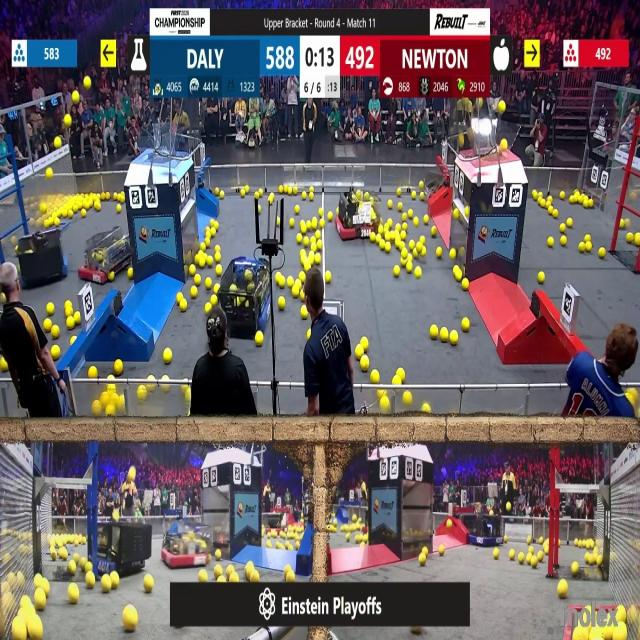ball_airborne: (129, 466, 137, 481), (458, 134, 466, 148), (498, 102, 506, 114), (499, 140, 507, 152), (112, 511, 120, 522), (55, 137, 62, 149), (65, 114, 72, 126), (72, 92, 79, 104), (83, 76, 90, 88), (45, 169, 52, 180), (505, 502, 511, 512)
ball_ground: (125, 608, 138, 633), (29, 621, 40, 640), (35, 592, 46, 610), (558, 580, 568, 599), (69, 586, 79, 604), (102, 578, 112, 594), (144, 577, 153, 594), (87, 572, 96, 588), (380, 396, 390, 410), (249, 568, 259, 582), (114, 359, 123, 374), (93, 403, 102, 418), (359, 356, 368, 370), (50, 346, 59, 360), (402, 392, 411, 406), (255, 333, 263, 348), (442, 327, 450, 342), (370, 368, 378, 382), (66, 302, 74, 316), (360, 338, 368, 352), (111, 572, 119, 586), (90, 365, 99, 377), (200, 569, 209, 581), (106, 406, 115, 418), (59, 548, 68, 560), (165, 349, 172, 364), (429, 325, 437, 338), (461, 318, 469, 331), (278, 296, 286, 309), (451, 332, 458, 346), (0, 357, 7, 371), (571, 562, 578, 576), (51, 324, 58, 338), (286, 570, 294, 582), (454, 270, 462, 282), (278, 276, 286, 288), (69, 561, 76, 574), (231, 572, 240, 582), (46, 304, 53, 316), (67, 318, 74, 330), (302, 307, 309, 319), (627, 234, 635, 244), (393, 376, 401, 386), (214, 565, 222, 575), (422, 405, 430, 415), (530, 558, 538, 568), (406, 264, 414, 274), (204, 304, 212, 314), (420, 247, 428, 257), (313, 242, 321, 252), (584, 198, 592, 208), (308, 254, 316, 264), (356, 346, 362, 359), (74, 313, 80, 326), (180, 301, 187, 312), (393, 267, 400, 278), (415, 268, 422, 279), (578, 242, 585, 253), (419, 555, 426, 566), (286, 276, 293, 287), (188, 266, 195, 277), (200, 256, 207, 267), (315, 252, 321, 264), (44, 319, 50, 331), (325, 272, 331, 284), (396, 367, 404, 376), (212, 284, 220, 293), (572, 631, 580, 640), (82, 201, 90, 210), (435, 248, 442, 258), (205, 278, 212, 288), (214, 253, 221, 263), (304, 237, 311, 247), (291, 287, 298, 297), (492, 549, 499, 559), (207, 256, 214, 266), (312, 218, 319, 228), (306, 220, 313, 230), (538, 273, 544, 284), (190, 286, 196, 297), (462, 279, 468, 290), (216, 266, 222, 277), (586, 242, 592, 253), (384, 242, 390, 253), (211, 295, 218, 304), (298, 273, 305, 282), (507, 551, 514, 560), (385, 233, 392, 242), (205, 239, 212, 248), (599, 248, 605, 258), (451, 248, 457, 258), (561, 236, 567, 246), (440, 544, 446, 554), (369, 234, 375, 244), (193, 275, 199, 285), (316, 231, 322, 241), (215, 551, 221, 561), (380, 241, 386, 251), (95, 202, 101, 212), (519, 554, 525, 564), (0, 293, 6, 303), (299, 221, 305, 231), (542, 543, 548, 553), (110, 272, 116, 282), (118, 192, 124, 202), (586, 554, 592, 564), (269, 192, 275, 202), (193, 254, 199, 264), (596, 556, 602, 566), (397, 241, 404, 249), (538, 200, 545, 208), (129, 269, 134, 280), (299, 289, 304, 300), (635, 235, 640, 246), (546, 238, 552, 247), (288, 218, 294, 227), (276, 216, 282, 225), (410, 241, 416, 250), (553, 209, 559, 218), (538, 553, 544, 562), (430, 226, 436, 235), (305, 263, 311, 272), (400, 213, 406, 222), (414, 217, 420, 226), (88, 562, 94, 571), (397, 203, 403, 212), (216, 243, 222, 252), (51, 552, 57, 561), (244, 185, 250, 194), (307, 328, 312, 338), (296, 235, 301, 245), (211, 228, 216, 238), (621, 218, 626, 228), (527, 554, 532, 564), (218, 575, 225, 582), (80, 209, 86, 217), (532, 190, 538, 198), (412, 190, 418, 198), (396, 222, 402, 230), (422, 546, 428, 554), (417, 243, 423, 251), (528, 544, 534, 552), (399, 258, 405, 266), (68, 210, 74, 218), (70, 337, 76, 345), (408, 254, 414, 262), (318, 208, 324, 216), (256, 189, 262, 197), (424, 214, 429, 223), (400, 232, 405, 241), (567, 218, 572, 227), (561, 223, 566, 232), (409, 209, 414, 218), (379, 224, 384, 233), (307, 193, 312, 202), (384, 222, 389, 231), (346, 533, 351, 542), (560, 191, 566, 198), (420, 237, 426, 244), (377, 235, 383, 242), (413, 250, 419, 257), (219, 190, 224, 198), (116, 205, 121, 213), (294, 206, 299, 214), (388, 202, 393, 210), (420, 191, 425, 199), (327, 212, 332, 220), (401, 222, 406, 230), (401, 249, 406, 257), (299, 248, 304, 256), (320, 218, 324, 228), (549, 197, 554, 205), (106, 191, 111, 199), (177, 292, 182, 300), (527, 536, 532, 544), (356, 535, 361, 543), (586, 235, 591, 242), (388, 218, 393, 225), (547, 208, 552, 215), (503, 535, 508, 542), (268, 540, 273, 547), (74, 554, 79, 561), (210, 219, 215, 226), (569, 195, 574, 202), (149, 374, 154, 381), (396, 188, 401, 195), (56, 218, 61, 225), (202, 242, 206, 250), (112, 192, 116, 200), (538, 537, 543, 543), (257, 207, 261, 214), (241, 189, 245, 196), (420, 181, 424, 188)
goal: (465, 121, 523, 160), (129, 130, 189, 160)
robot_blue: (216, 260, 271, 335), (94, 518, 153, 577), (20, 224, 72, 289), (469, 514, 506, 548)
robot_red: (81, 229, 130, 284), (336, 188, 380, 240), (160, 523, 208, 569), (266, 513, 286, 532)
